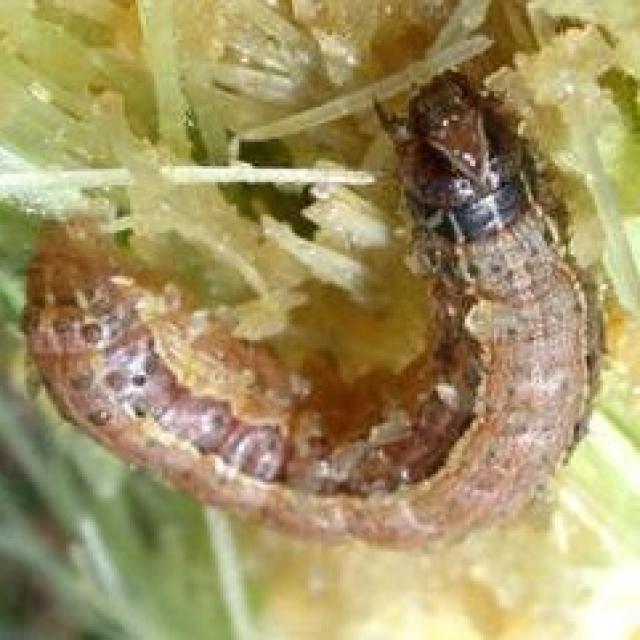army worm: (21, 66, 608, 564)
